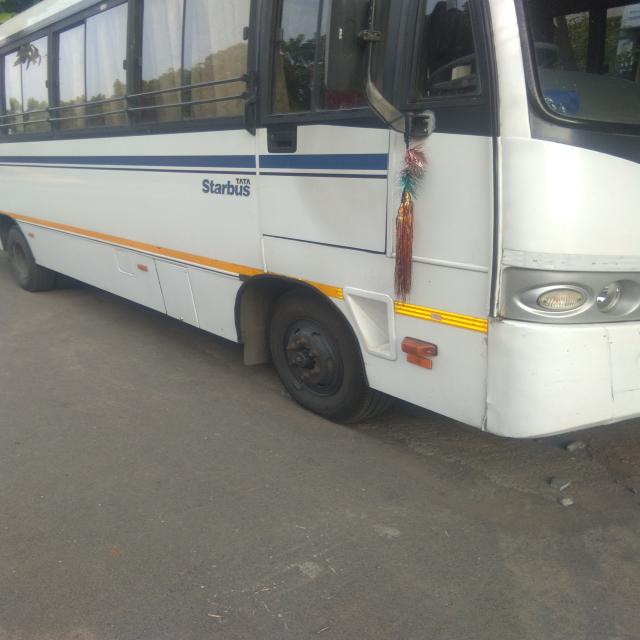Bus: (0, 0, 640, 438)
